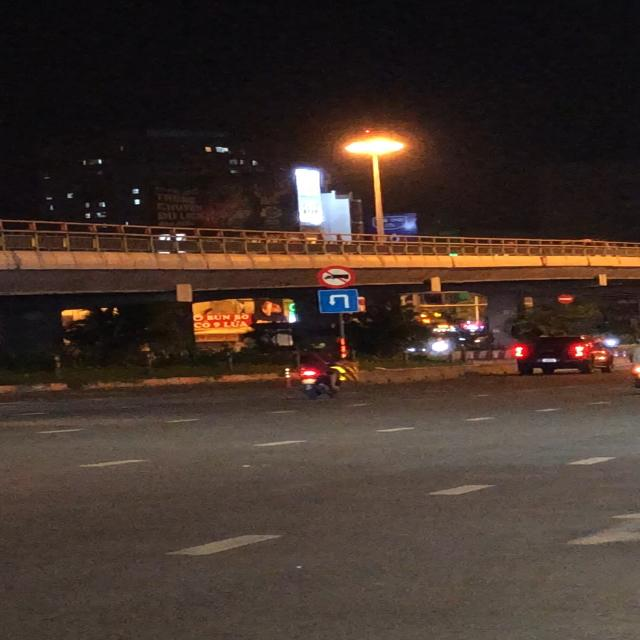Bien bao cam xe so-mi ro-mooc: (313, 265, 355, 289)
